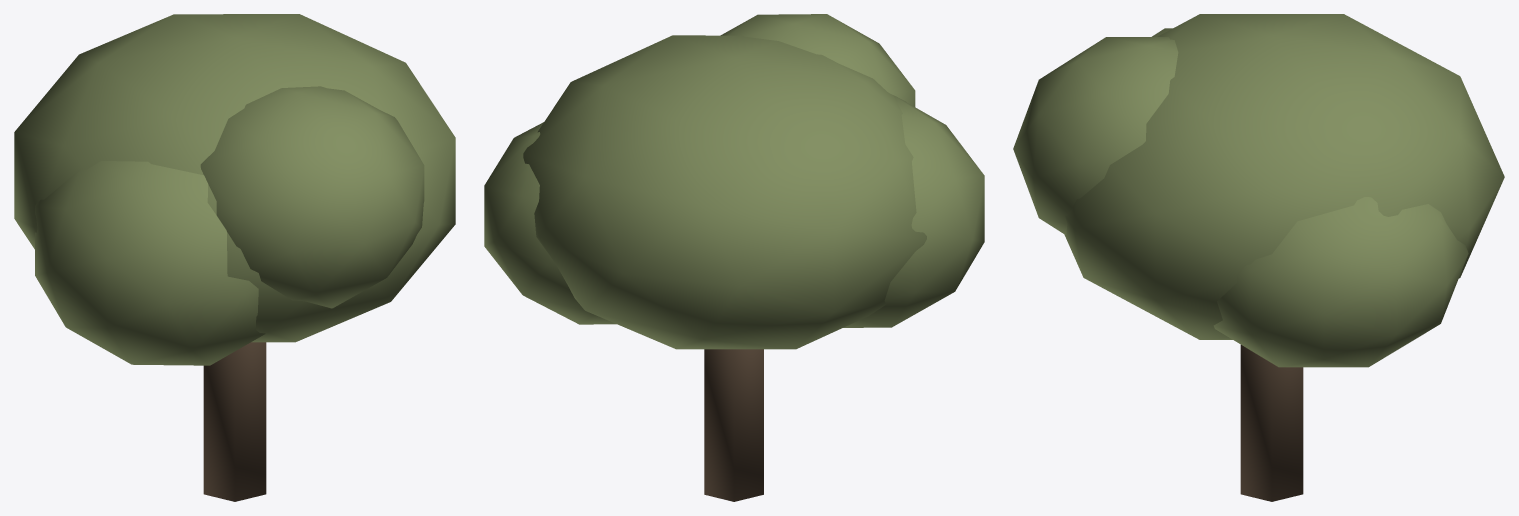
Rendered from tpl_esterni_olivo_0.glb.
3 views of the same model, side by side, from view 1: azimuth 30°, elevation 25°; view 2: azimuth 150°, elevation 25°; view 3: azimuth 270°, elevation 25° (orthographic). The views are drawn at different scales.
Parts seen in each view (by area): view 1: tpl_esterni_olivo_0; view 2: tpl_esterni_olivo_0; view 3: tpl_esterni_olivo_0.
Part boxes in pixels (box(x1,y1,x2,y2)): tpl_esterni_olivo_0: box(14, 14, 455, 501); tpl_esterni_olivo_0: box(484, 14, 984, 501); tpl_esterni_olivo_0: box(1013, 14, 1504, 501).
Bounding box in the file's own units: 0.99 × 0.96 × 0.95.
